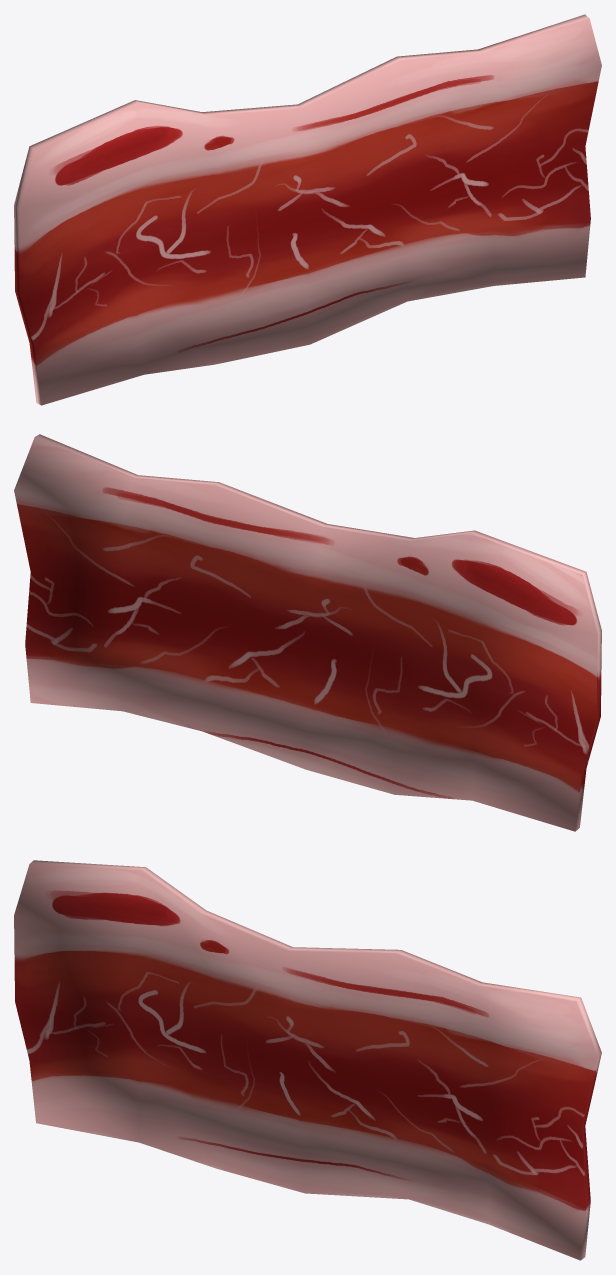
The model's file is wagyu_brisket.fbx.
The picture shows the model from 3 angles, top to bottom: view 1: azimuth 30°, elevation 25°; view 2: azimuth 150°, elevation 25°; view 3: azimuth 330°, elevation 25°; orthographic projection.
Visible parts, largest first — view 1: wagyu_brisket.001; view 2: wagyu_brisket.001; view 3: wagyu_brisket.001.
Part boxes in pixels (left/top/right/bottom): wagyu_brisket.001: left=14, top=14, right=601, bottom=405; wagyu_brisket.001: left=14, top=434, right=601, bottom=831; wagyu_brisket.001: left=14, top=860, right=601, bottom=1260.
Bounding box in the file's own units: 80.64 × 36.91 × 3.38.
